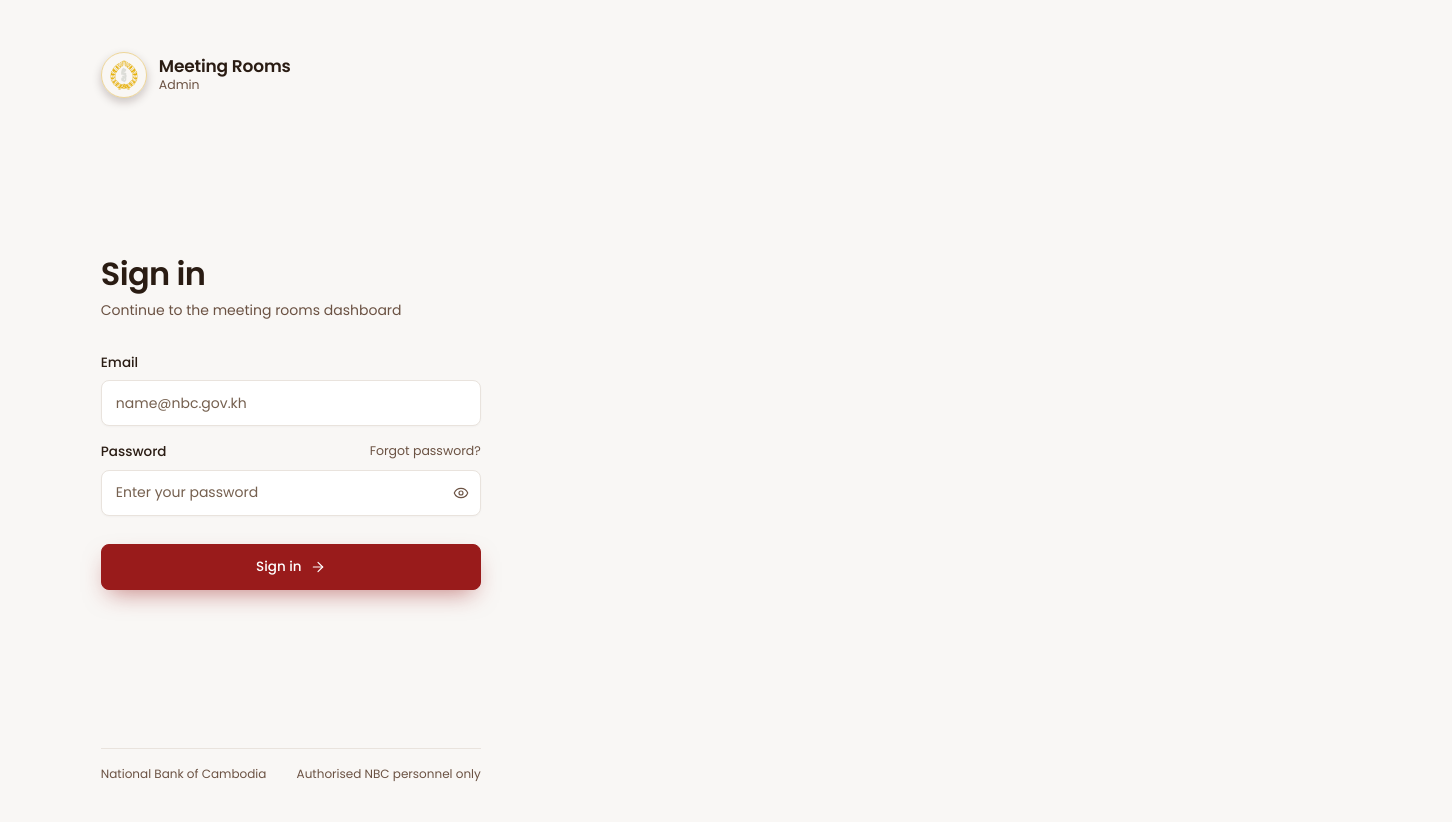
Scenario: SignInView › says "1 minute" when less than a minute is left
The width and height of the screenshot is (1452, 822).
Type "admin@company.com" into the field with id "email".
click(291, 403); type("admin@company.com")  # box [101, 380, 481, 426]
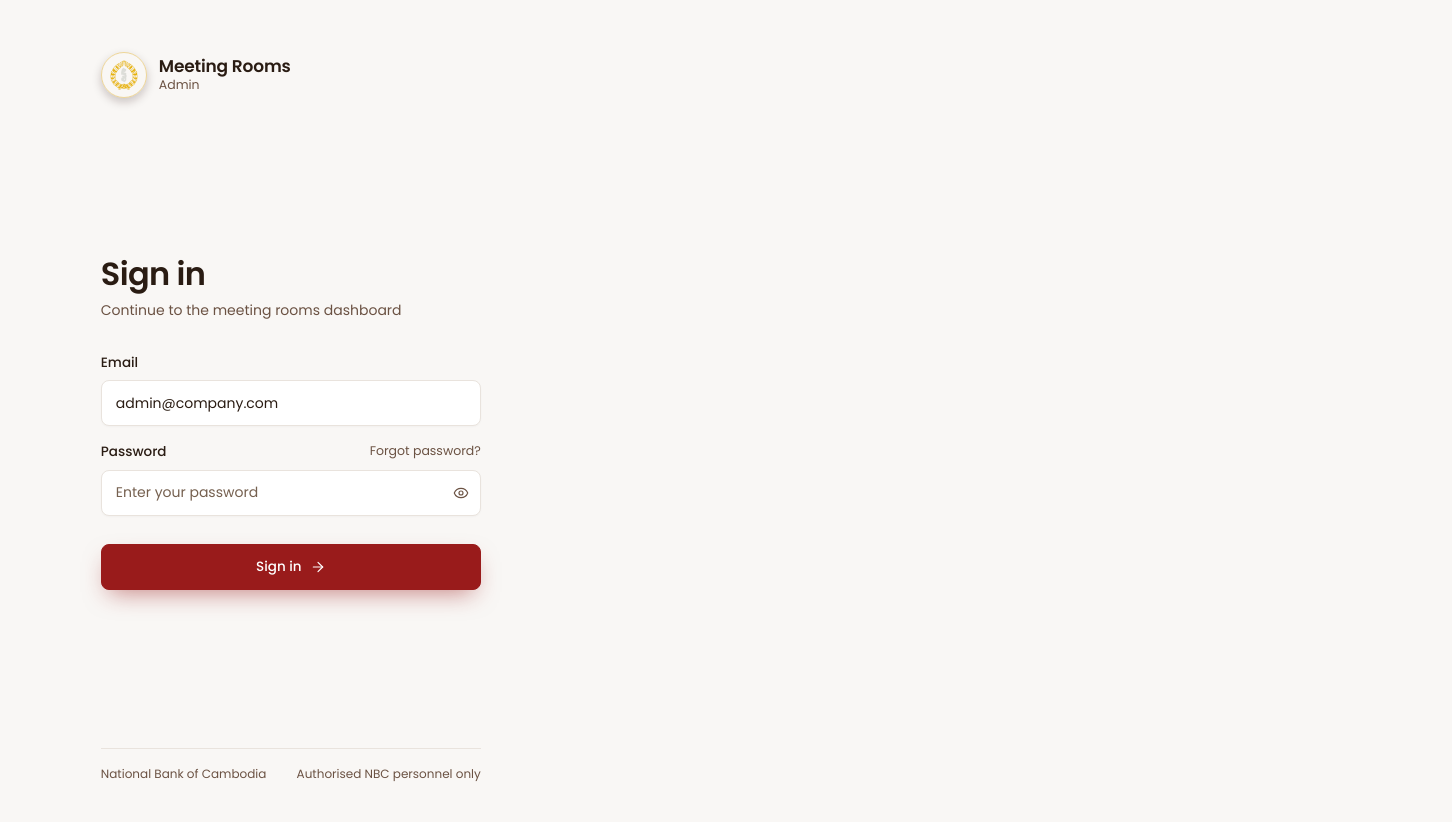
Type "bad" into the password field labelled "Password".
click(291, 493); type("bad")  # box [101, 470, 481, 516]
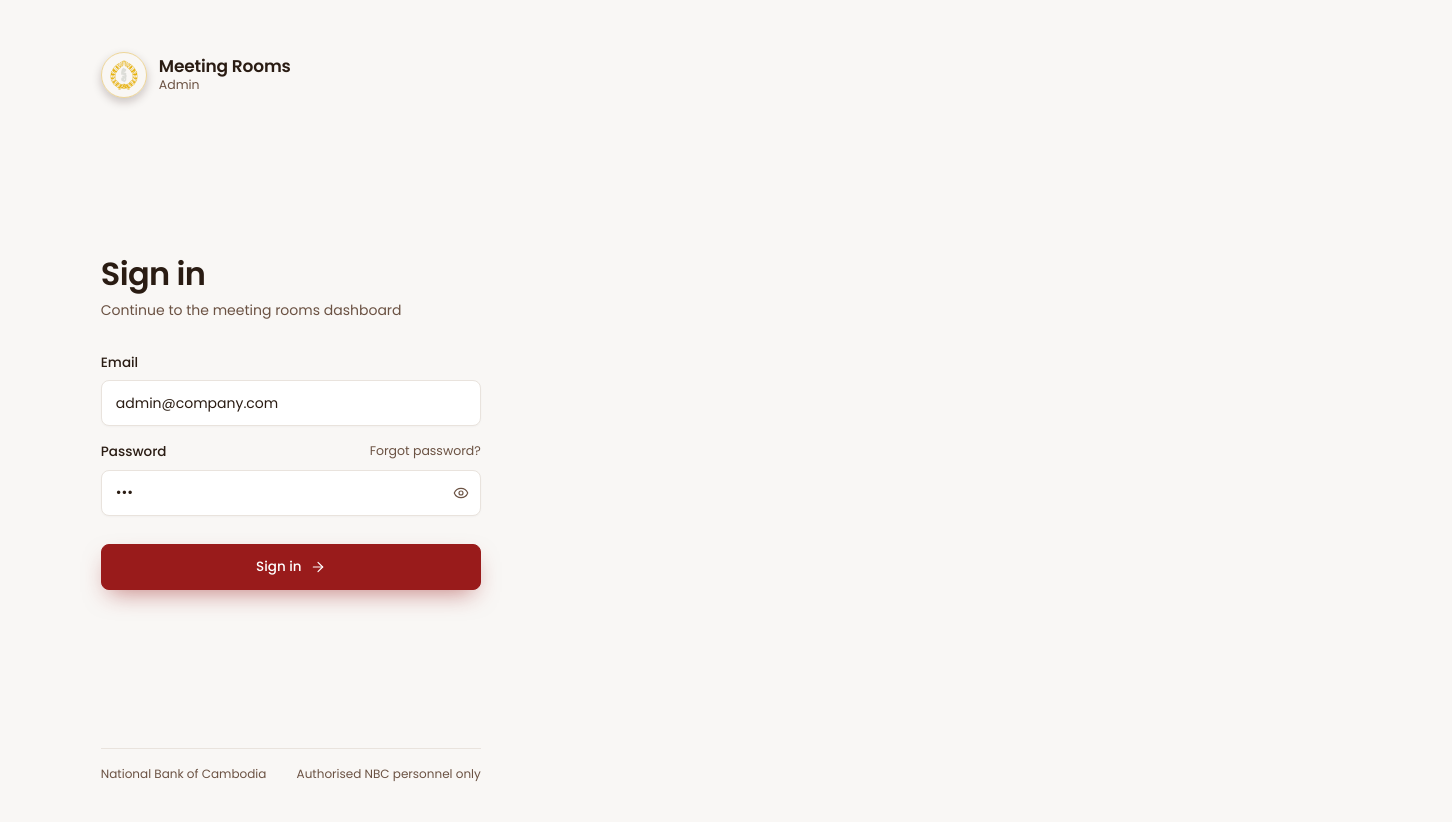
Submit the form, box [101, 353, 481, 590]
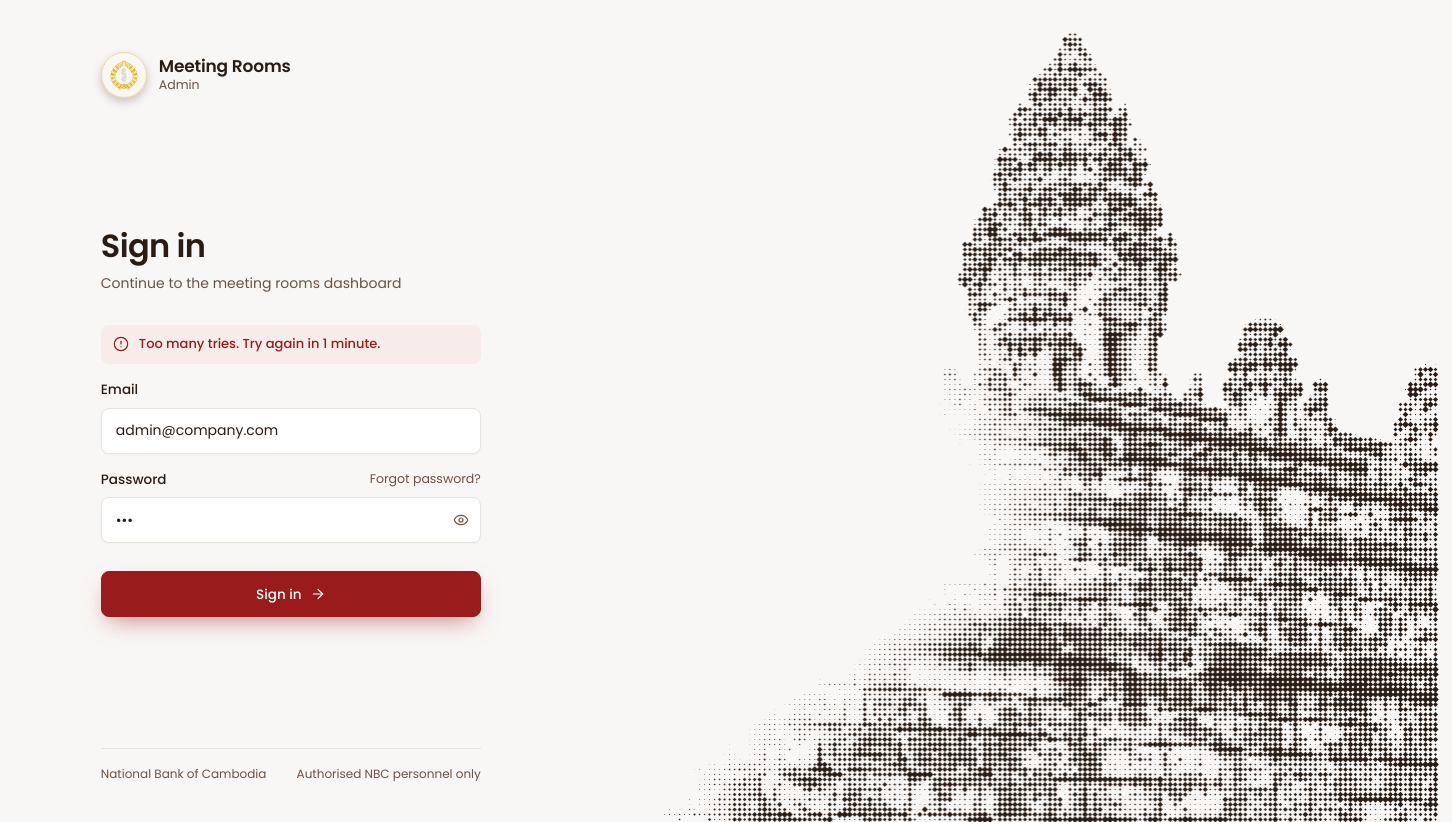
Result: the message "Too many tries. Try again in 1 minute." is shown at [101, 325, 481, 364]
